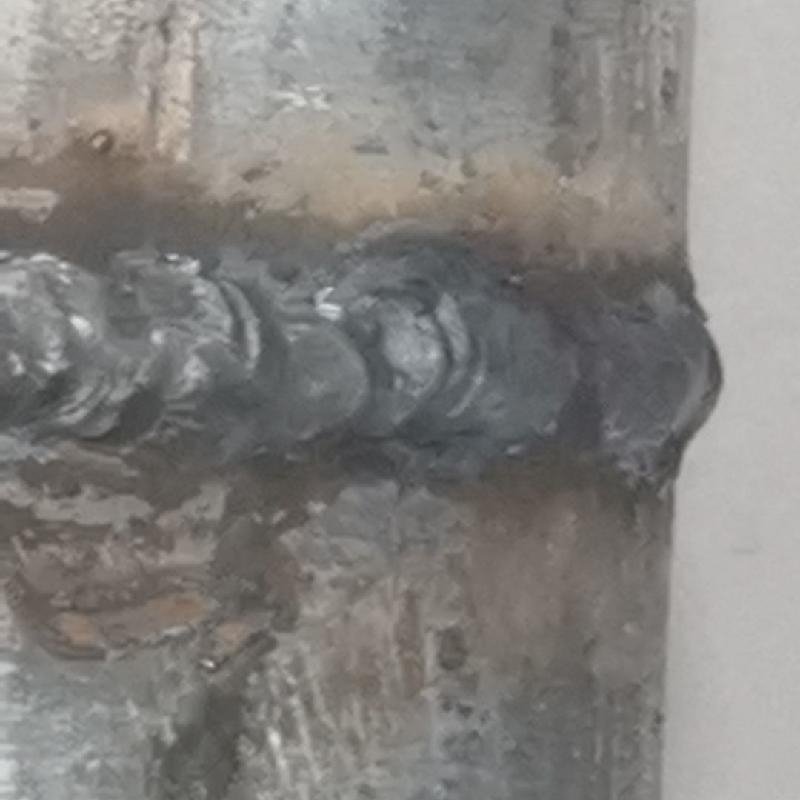good: (3, 238, 723, 505)
